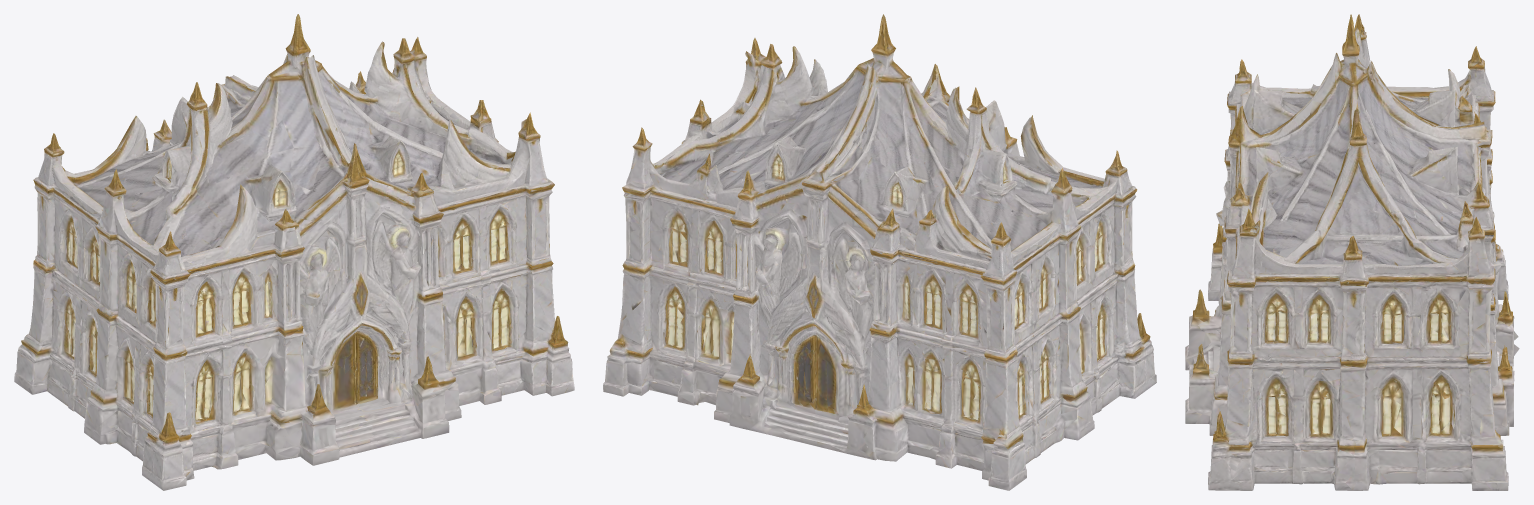
Rendered from sq-angel1.glb.
The picture shows the model from 3 angles, left to right: view 1: azimuth 30°, elevation 25°; view 2: azimuth 150°, elevation 25°; view 3: azimuth 270°, elevation 25°; orthographic projection.
Parts seen in each view (by area): view 1: lod0; view 2: lod0; view 3: lod0.
Boxes of the visible parts, x1,y1,x2,y2 form: lod0: (14, 14, 574, 490); lod0: (603, 14, 1156, 490); lod0: (1185, 14, 1519, 490).
Size of what is drawn, in the model's own units: 1.9 by 1.66 by 1.33.
Materials: 1 (1 with a texture image).
